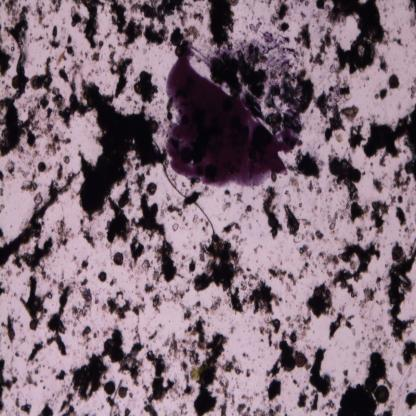Background material: (58, 83, 169, 213), (0, 167, 80, 267), (327, 1, 390, 74), (184, 313, 228, 415), (361, 105, 416, 183), (195, 232, 247, 314), (335, 350, 396, 414), (384, 242, 416, 343), (329, 144, 369, 220), (331, 235, 382, 291), (0, 90, 42, 157), (315, 75, 352, 144), (38, 56, 70, 132), (45, 274, 74, 356), (143, 345, 176, 415), (104, 327, 144, 384), (104, 180, 135, 244), (69, 1, 107, 50), (20, 273, 52, 329), (71, 354, 108, 401), (109, 1, 145, 48), (132, 0, 190, 29), (205, 0, 236, 54), (13, 237, 53, 277), (244, 272, 281, 314), (132, 194, 168, 237), (152, 236, 180, 282), (109, 50, 132, 101), (262, 186, 284, 239), (311, 347, 334, 397), (289, 149, 325, 179), (282, 201, 309, 241), (0, 358, 19, 414), (151, 283, 189, 311), (129, 231, 152, 276), (70, 278, 93, 323), (370, 192, 397, 230), (306, 284, 336, 318), (309, 24, 332, 68), (133, 70, 159, 104), (271, 340, 295, 376), (180, 335, 194, 395), (328, 311, 358, 339), (54, 216, 76, 253), (105, 291, 133, 320), (284, 314, 312, 342), (78, 219, 104, 249), (215, 378, 236, 415), (366, 321, 391, 352), (315, 249, 340, 278), (236, 400, 282, 415), (45, 132, 73, 156), (146, 22, 170, 50), (161, 195, 185, 223), (268, 266, 296, 290), (182, 187, 211, 210), (357, 283, 378, 312), (298, 244, 314, 282), (134, 170, 158, 195), (0, 310, 18, 343), (219, 352, 243, 376), (0, 37, 14, 77), (265, 372, 284, 400), (393, 162, 412, 190), (268, 1, 290, 25), (5, 158, 30, 179), (49, 163, 64, 197), (348, 121, 364, 152), (295, 22, 312, 51), (328, 206, 351, 227), (34, 0, 50, 30), (164, 333, 181, 361), (25, 338, 43, 364), (81, 324, 99, 349), (22, 365, 42, 386), (394, 204, 409, 232), (59, 391, 76, 415), (4, 0, 20, 25), (263, 314, 282, 335), (240, 204, 258, 226), (196, 300, 222, 315), (69, 57, 84, 83), (401, 340, 416, 365), (182, 24, 200, 43), (222, 220, 242, 237), (340, 107, 360, 124), (133, 294, 146, 320), (74, 256, 90, 275), (106, 396, 122, 415), (49, 25, 61, 50), (103, 376, 117, 396), (296, 388, 308, 410), (181, 302, 193, 322), (38, 400, 54, 415), (318, 399, 336, 412), (354, 223, 365, 244), (65, 33, 75, 56), (222, 188, 232, 211), (32, 191, 44, 210), (308, 179, 322, 195), (408, 0, 416, 28), (372, 178, 388, 192), (374, 86, 388, 102), (54, 366, 67, 383), (0, 170, 5, 214), (404, 390, 416, 408), (172, 402, 187, 416), (378, 54, 389, 73), (22, 179, 38, 192), (341, 368, 351, 388), (309, 390, 318, 411), (248, 21, 262, 34), (310, 229, 324, 242), (49, 0, 62, 14), (186, 256, 196, 274), (390, 35, 406, 46), (0, 278, 11, 294), (20, 401, 32, 414), (192, 11, 204, 24), (142, 284, 157, 294), (410, 76, 416, 100), (90, 50, 102, 62), (148, 328, 159, 341), (253, 242, 264, 255), (396, 361, 405, 376), (277, 22, 289, 33), (315, 0, 327, 11), (313, 10, 323, 23), (235, 191, 245, 204), (109, 275, 118, 287), (14, 395, 21, 410), (244, 367, 252, 379), (31, 35, 44, 42), (228, 325, 237, 335), (191, 213, 199, 224), (171, 222, 179, 233), (396, 193, 404, 204), (63, 156, 70, 165), (300, 12, 306, 21), (265, 0, 271, 8)
Cellulose filter fibre: (12, 16, 29, 101)
Diatom: (374, 385, 390, 406), (295, 352, 306, 368), (171, 31, 183, 45), (351, 168, 362, 183), (393, 247, 404, 262), (30, 75, 41, 90), (11, 74, 21, 90), (388, 74, 398, 88), (114, 253, 124, 265), (149, 120, 158, 133), (117, 386, 127, 397), (98, 271, 107, 282), (37, 161, 46, 172), (29, 320, 38, 330), (228, 0, 239, 7)
Natural material: (154, 141, 216, 236)
Pen: (163, 54, 306, 192)
